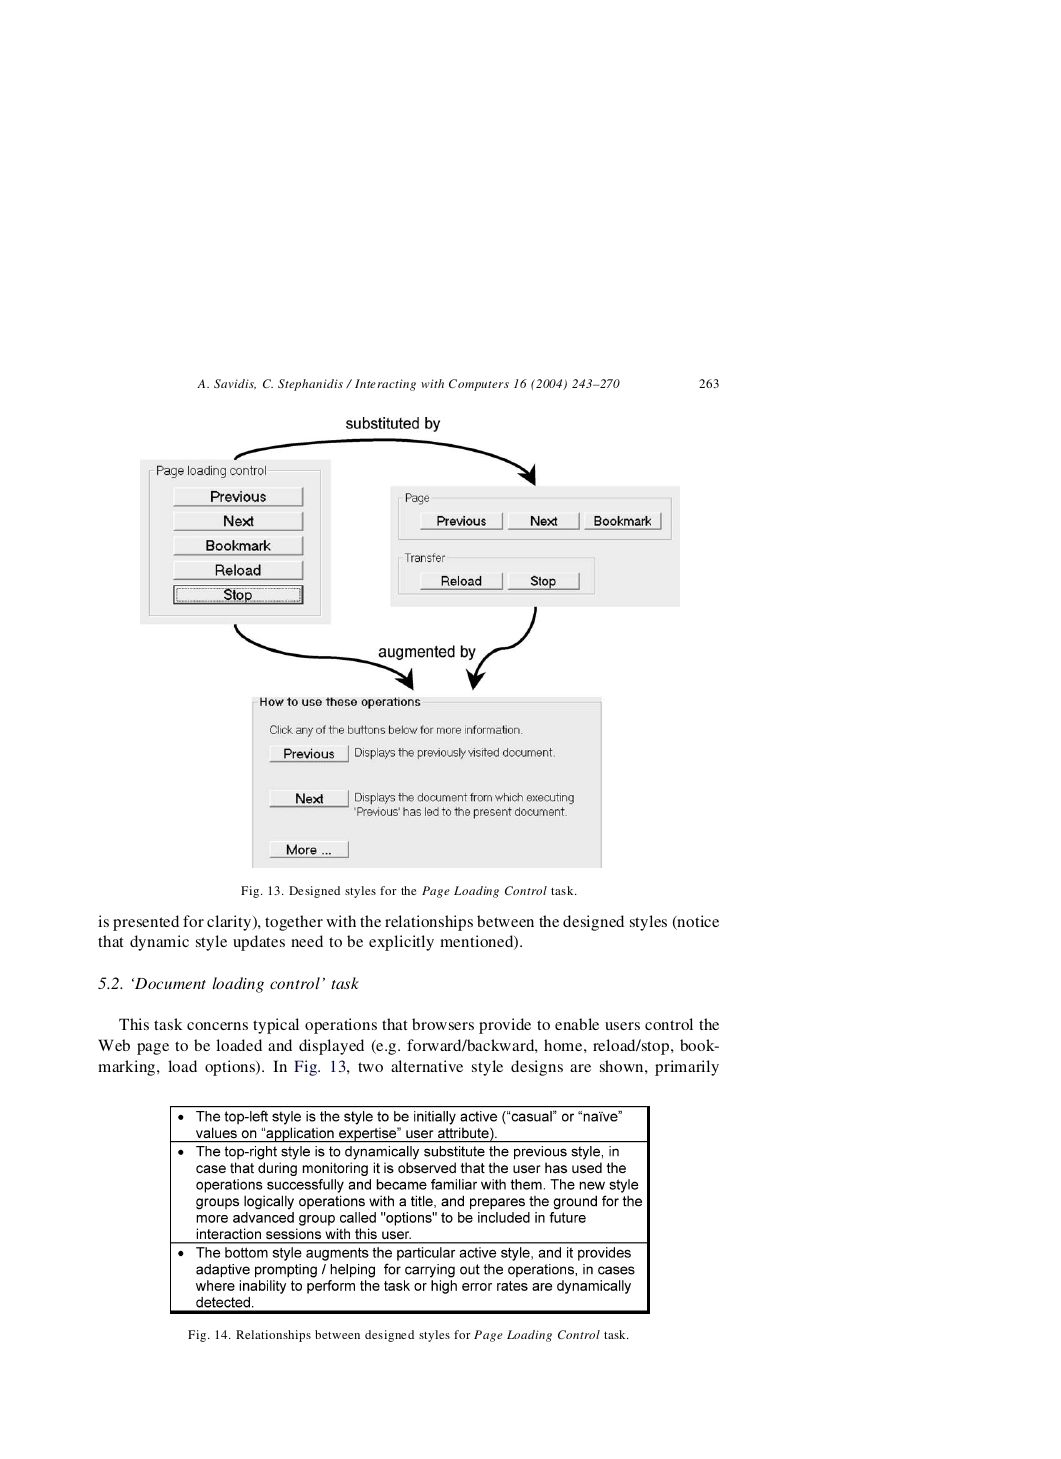Table: (170, 1104, 649, 1314)
figure: (140, 417, 679, 867)
